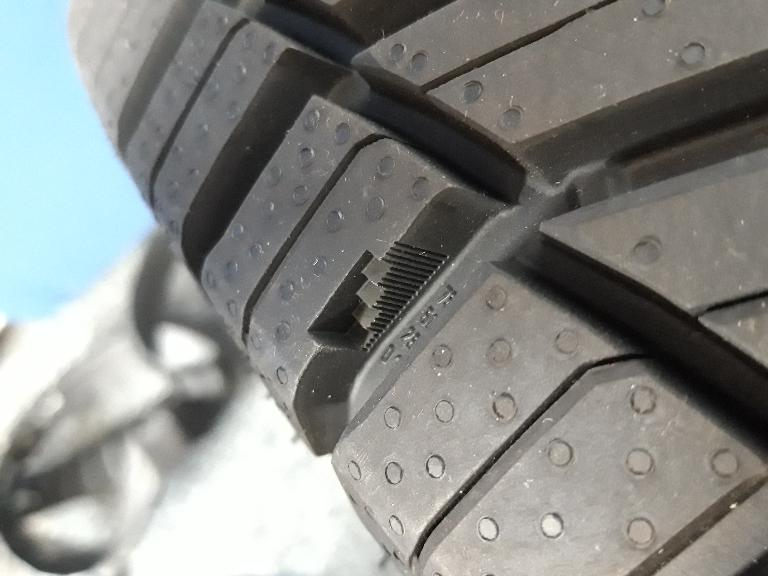temoin:100: (304, 236, 449, 356)
